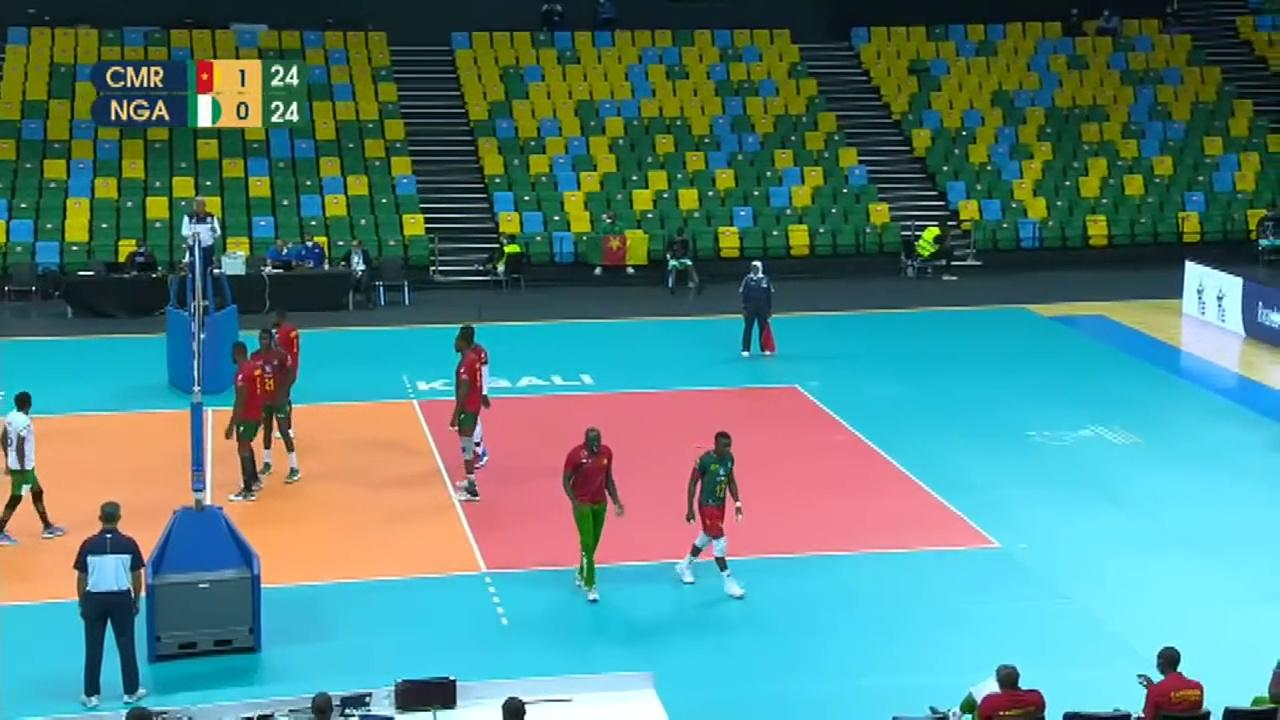player: (681, 431, 750, 594), (0, 394, 65, 538), (247, 330, 301, 486), (224, 335, 266, 507), (451, 324, 497, 469), (448, 334, 484, 498), (259, 303, 301, 439)
refree: (73, 497, 148, 713), (181, 198, 220, 298), (738, 261, 777, 356)
